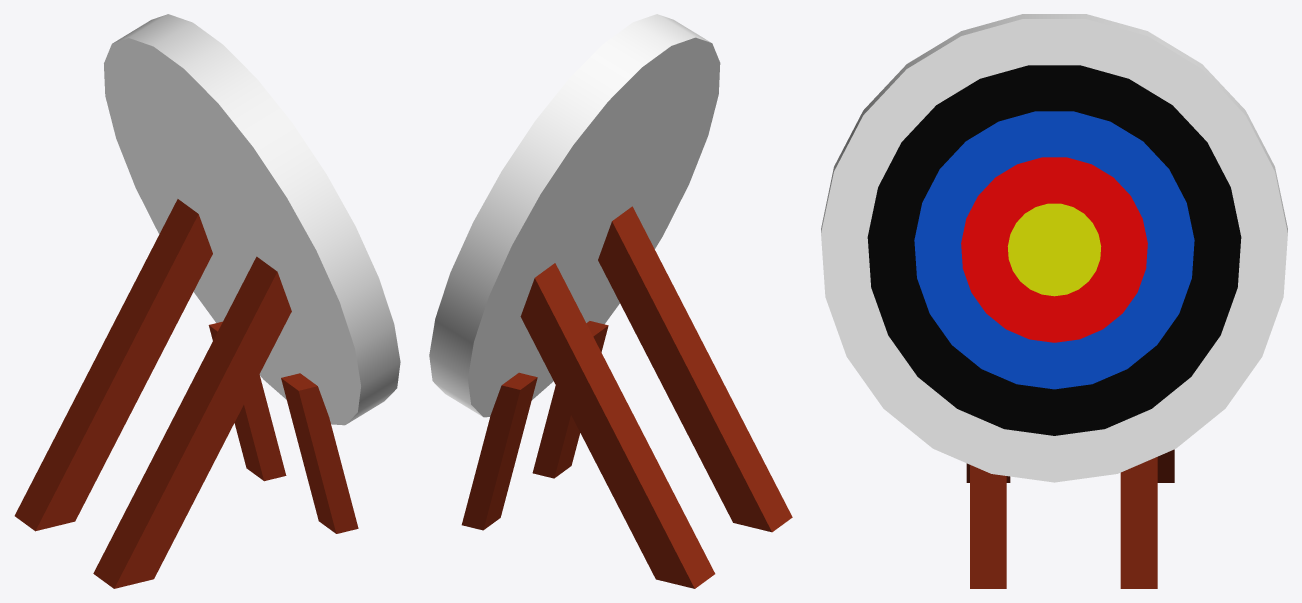
The model's file is Diana.fbx.
3 renders of one model, left to right at view 1: azimuth 30°, elevation 25°; view 2: azimuth 150°, elevation 25°; view 3: azimuth 270°, elevation 25°, orthographic. The views are drawn at different scales.
Parts seen in each view (by area): view 1: Cylinder001, Box006, Box007, Box005, Box004; view 2: Cylinder001, Box006, Box007, Box004, Box005; view 3: Cylinder001, Box004, Box005.
Boxes of the visible parts, x1,y1,x2,y2 form: Cylinder001: [104, 14, 400, 425]; Box006: [14, 199, 212, 531]; Box007: [93, 256, 291, 588]; Box005: [281, 373, 358, 533]; Box004: [208, 321, 286, 481]; Cylinder001: [429, 14, 720, 417]; Box006: [520, 263, 715, 588]; Box007: [598, 206, 792, 532]; Box004: [461, 372, 537, 530]; Box005: [532, 321, 608, 478]; Cylinder001: [821, 14, 1287, 482]; Box004: [1120, 457, 1157, 588]; Box005: [970, 465, 1006, 588].
Bounding box in the file's own units: 20.35 × 36.3 × 29.89.
